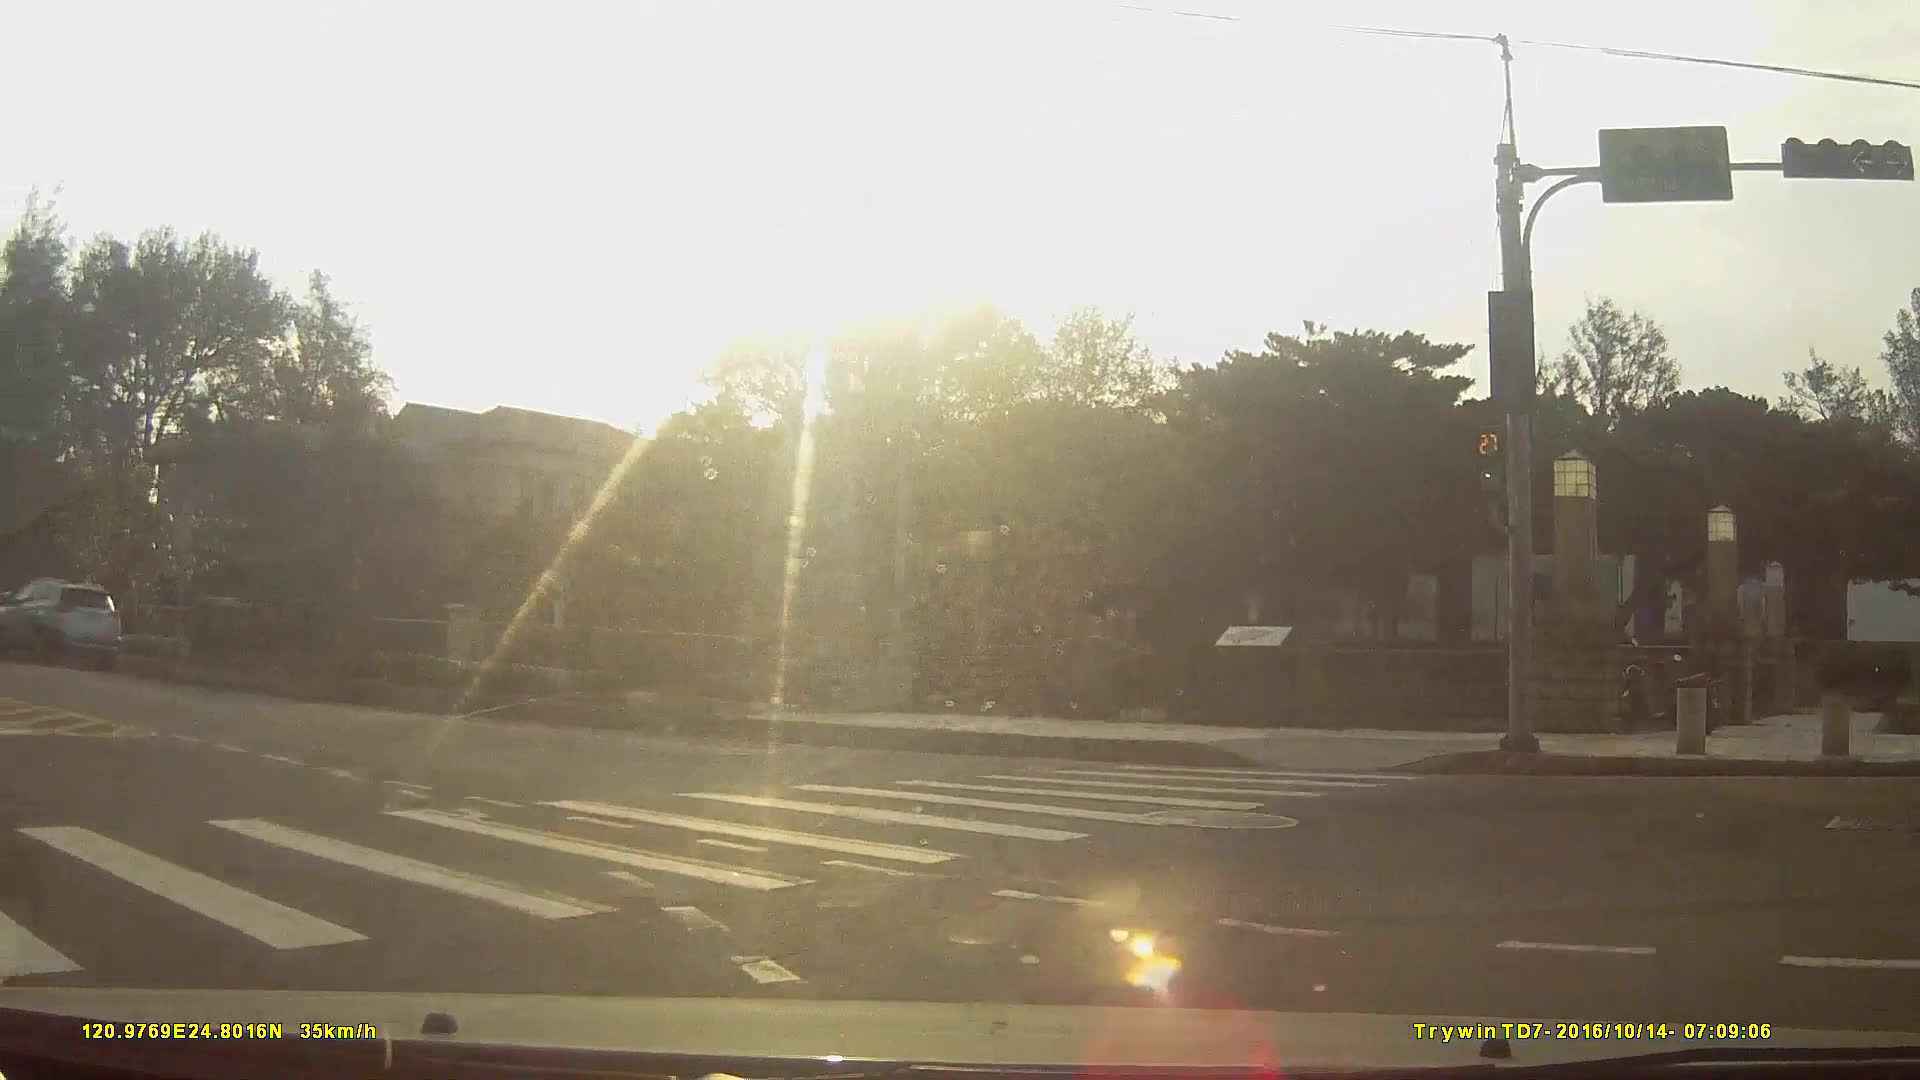vehicle: (0, 574, 120, 665)
